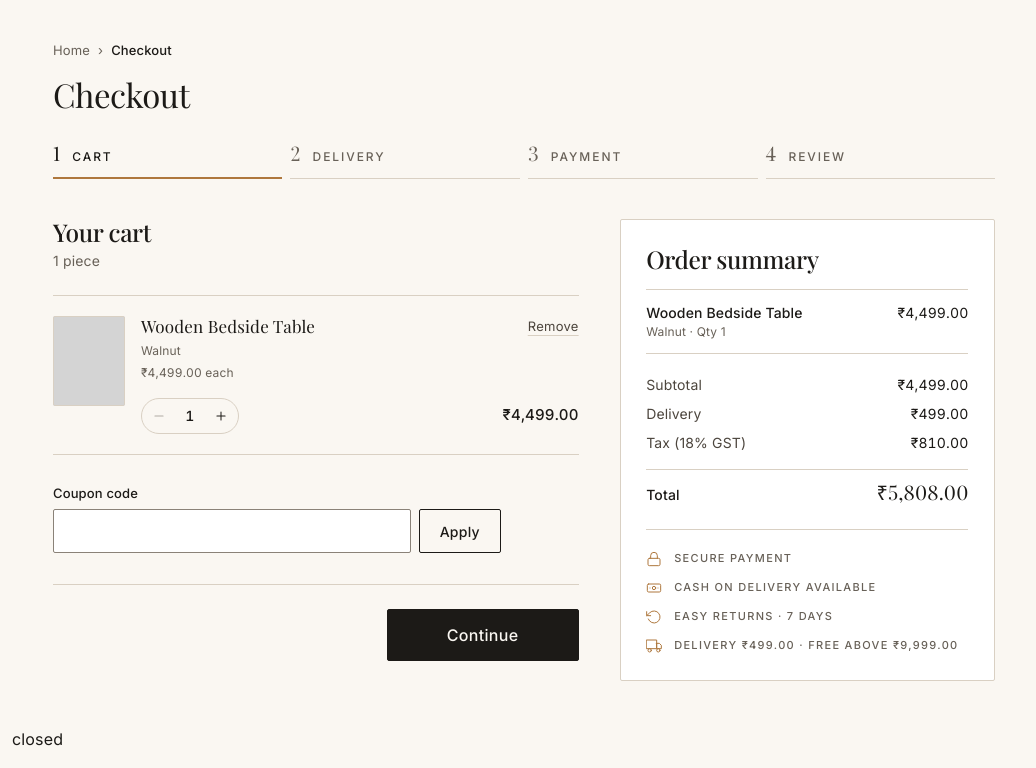
Test: the coupon › an empty code asks for one and marks the field
Expected: the list named "Our promises" is shown, [646, 529, 968, 654]
Click the button "Apply" at (460, 532), box [419, 510, 501, 554]
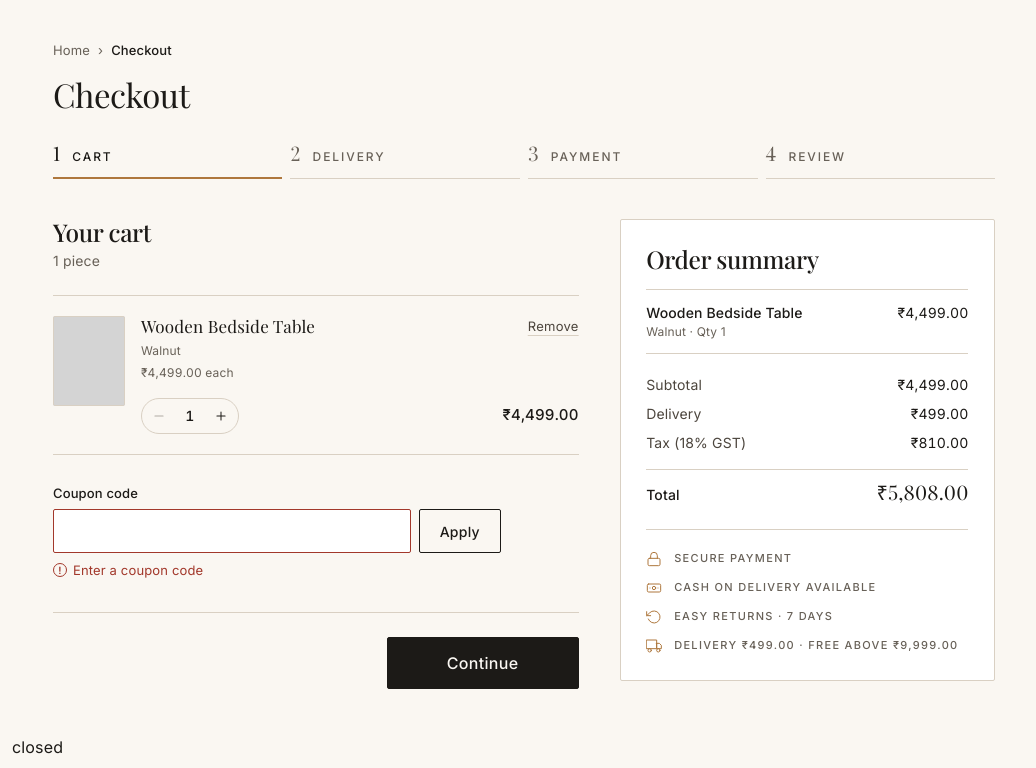
Expected: the text "Enter a coupon code" is shown, [73, 562, 203, 578]
